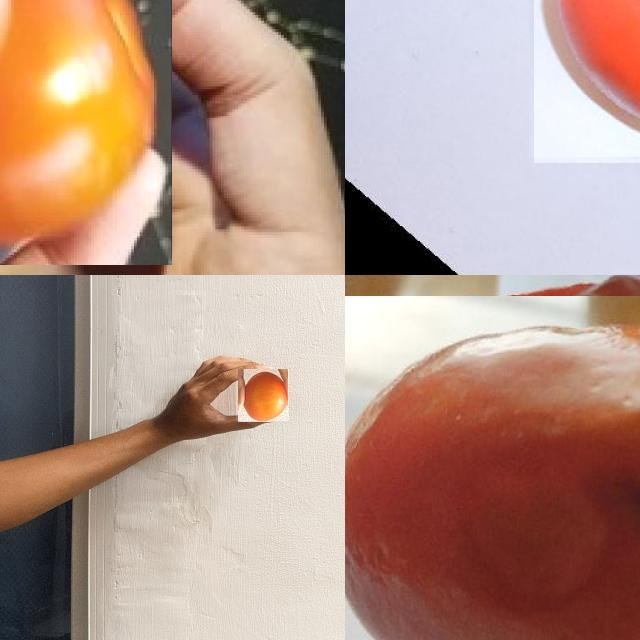Fresh Tomato: (0, 0, 171, 265), (533, 0, 640, 162), (236, 369, 289, 422)
Rotten Tomato: (345, 275, 640, 640)
